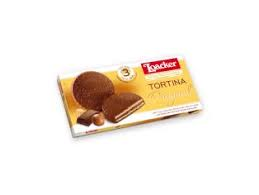Chocolate: (47, 54, 224, 123)
